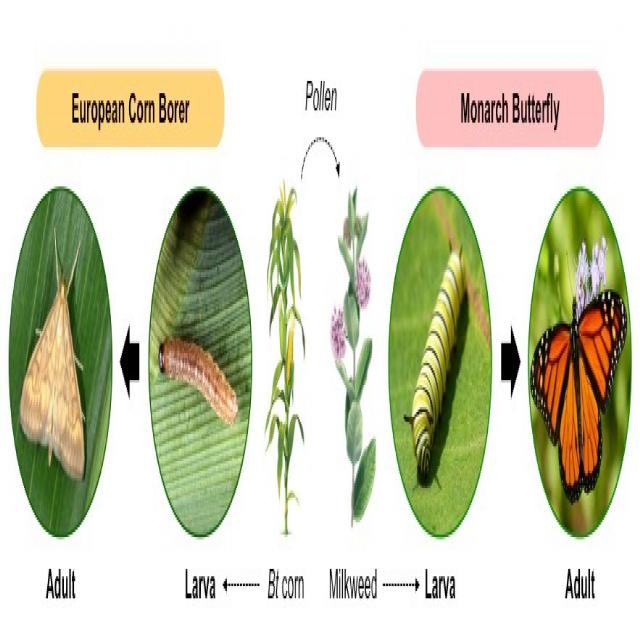cornborer-Adult-: (19, 218, 95, 490)
cornborer-Larva-: (156, 313, 239, 463)
